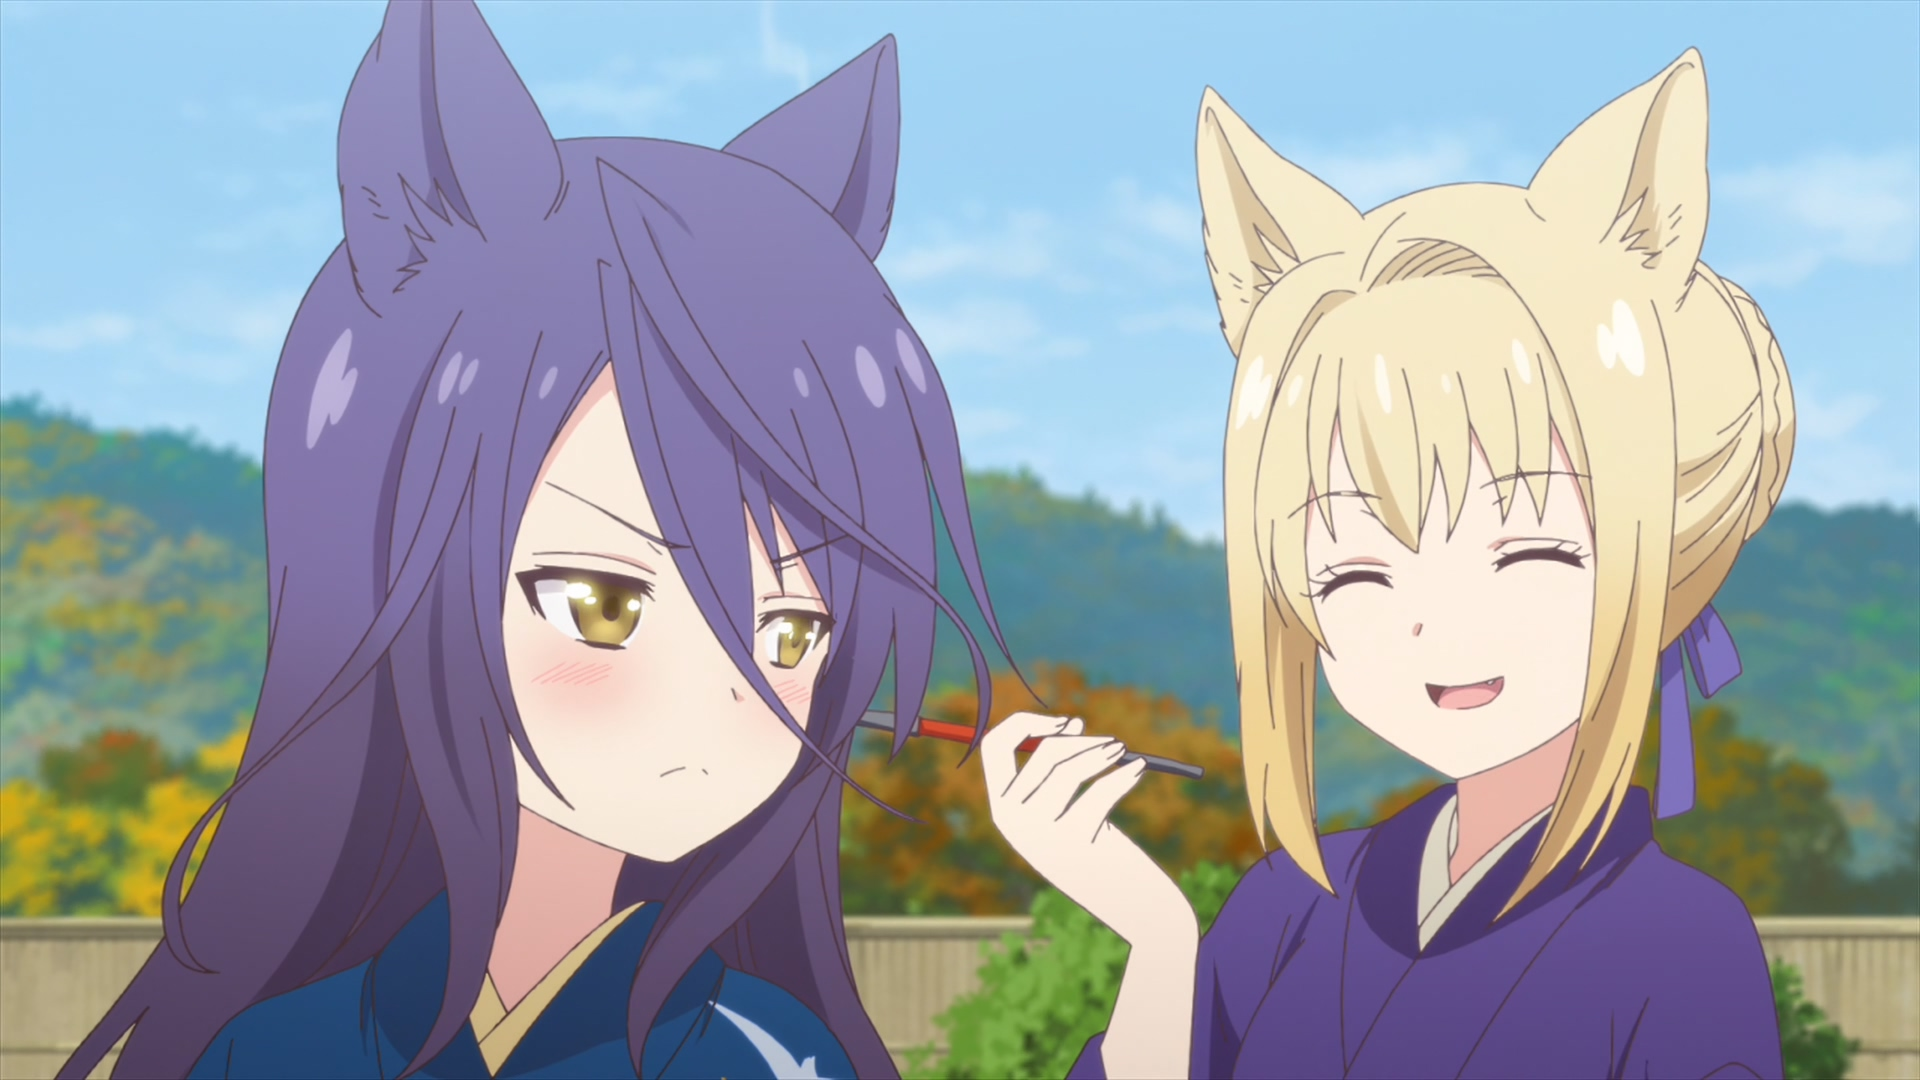桐: (981, 45, 1796, 1080)
皋: (47, 1, 1051, 1080)
